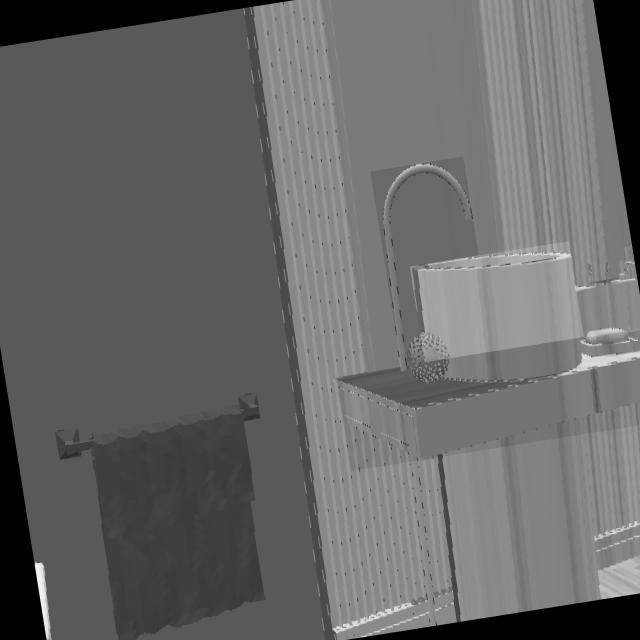shelf: (338, 353, 640, 460)
washbasin: (412, 255, 582, 383), (383, 164, 473, 374)
